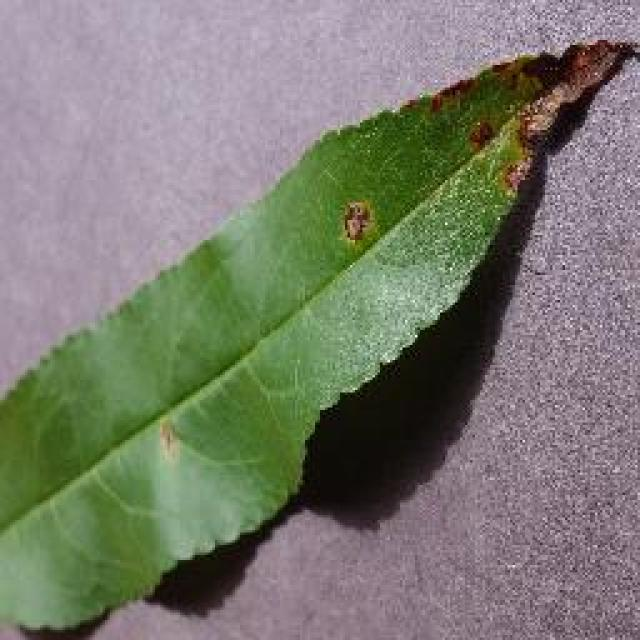Bacterial_spot: (466, 20, 640, 209), (334, 191, 380, 254)
